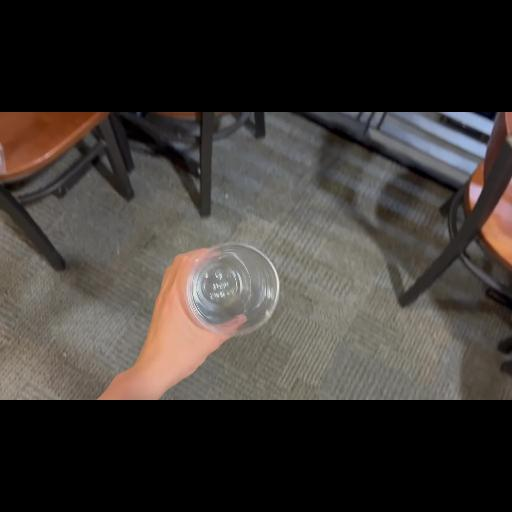lp_plastic_cup: (188, 246, 280, 334)
